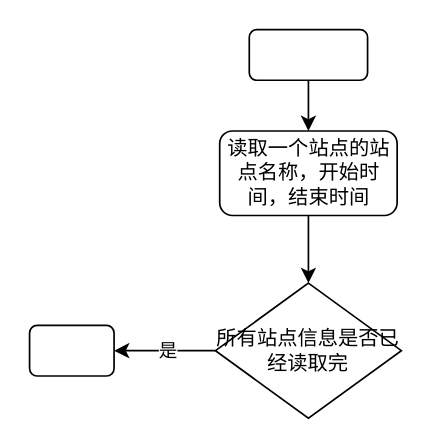
Some shapes in this 431 by 448 pixel diagram are drawn without their labels. The centre of each missing label's shape, as x and y in pixels:
"开始" goes at point (308, 54).
"结束" goes at point (71, 350).
